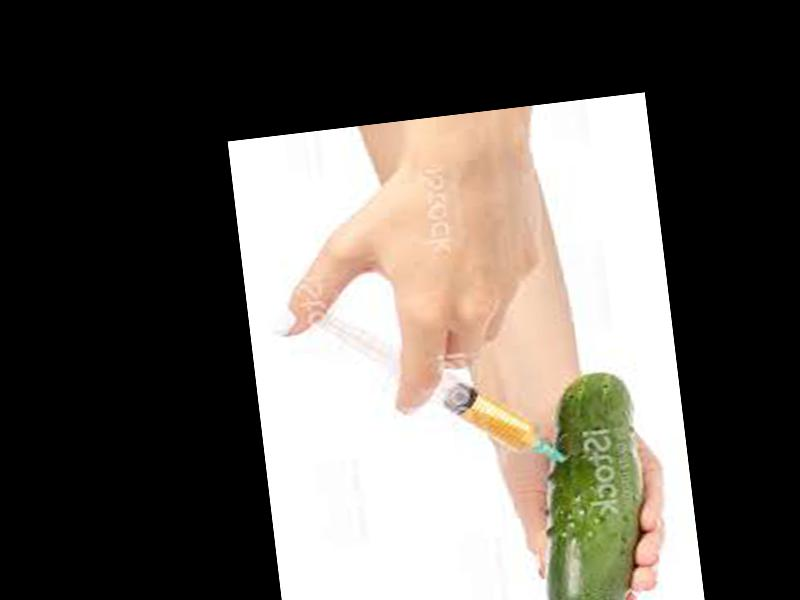Cucumber: (523, 370, 653, 600)
